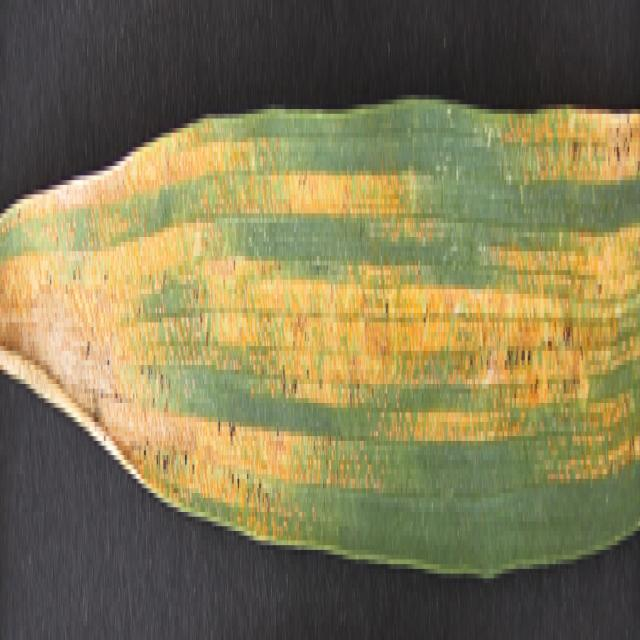leaf rust: (0, 118, 640, 568)
